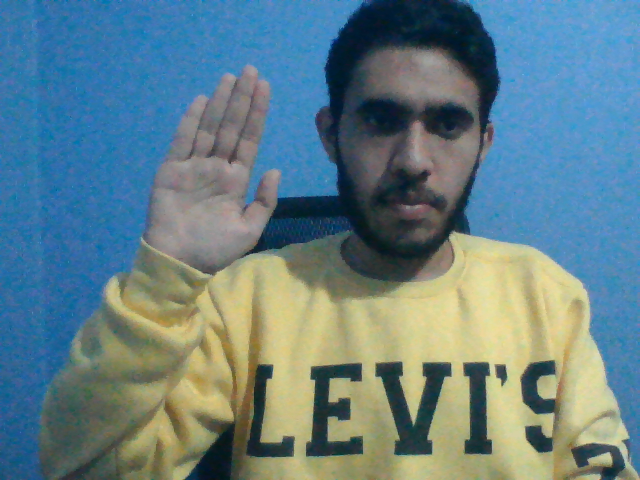hello: (138, 59, 283, 281)
